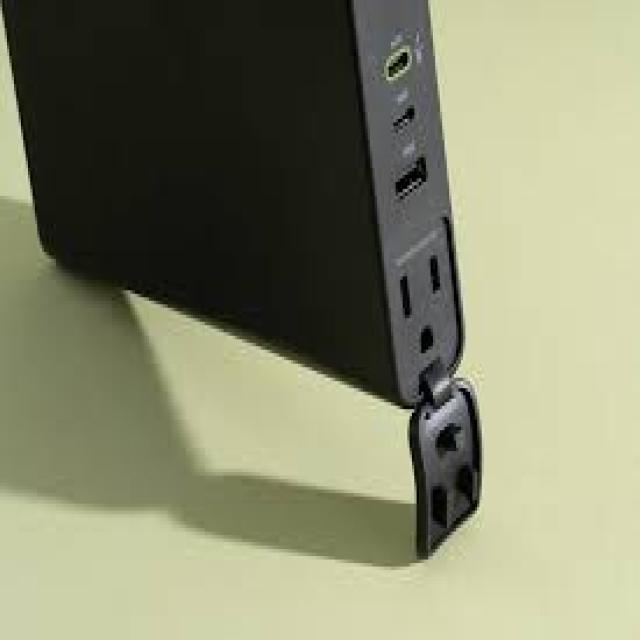portable-charger: (0, 0, 472, 419)
